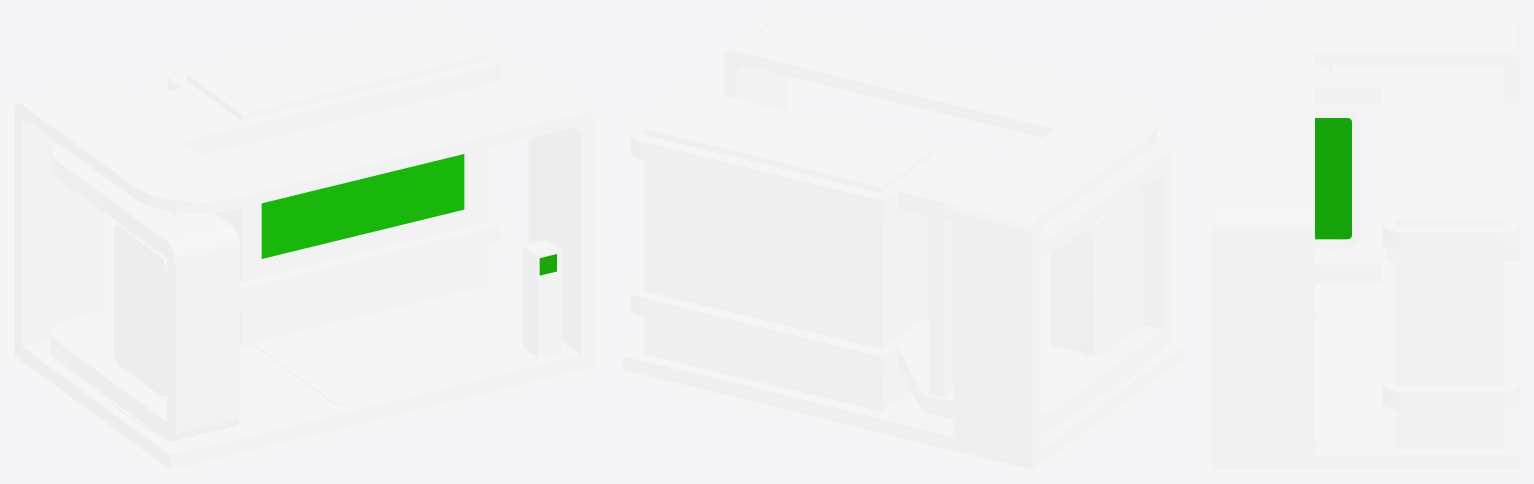
File: Booth.glb
3 renders of one model, left to right at view 1: azimuth 30°, elevation 25°; view 2: azimuth 150°, elevation 25°; view 3: azimuth 270°, elevation 25°, orthographic. The views are drawn at different scales.
Parts seen in each view (by area): view 1: Primary, Secondary, PanelVideo; view 2: Primary, Secondary; view 3: Primary, Secondary, PanelPoster.
Part boxes in pixels (<box>): Primary: <box>14,14,594,469</box>; Secondary: <box>50,14,561,441</box>; PanelVideo: <box>261,154,464,258</box>; Primary: <box>623,14,1183,469</box>; Secondary: <box>630,91,1172,433</box>; Primary: <box>1212,14,1519,469</box>; Secondary: <box>1315,65,1519,409</box>; PanelPoster: <box>1315,118,1351,239</box>.
Size of what is drawn, in the model's own units: 11.45 by 6.62 by 7.32.
